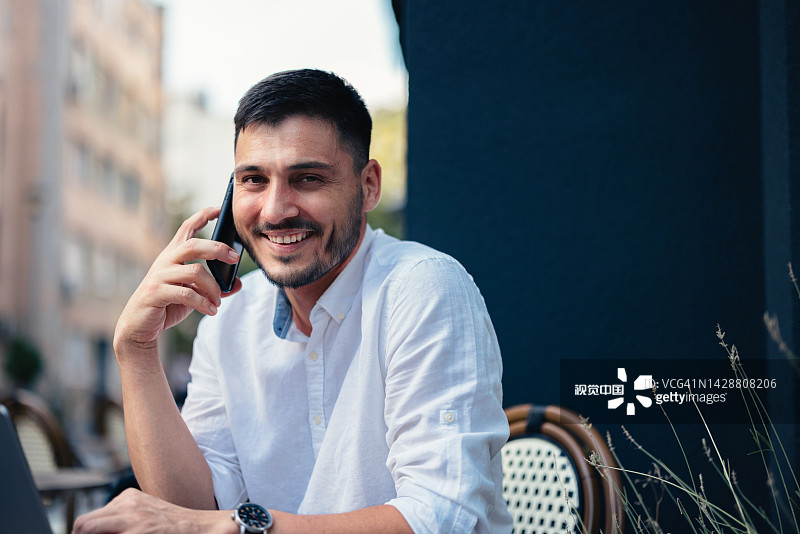calling: (104, 176, 259, 379)
